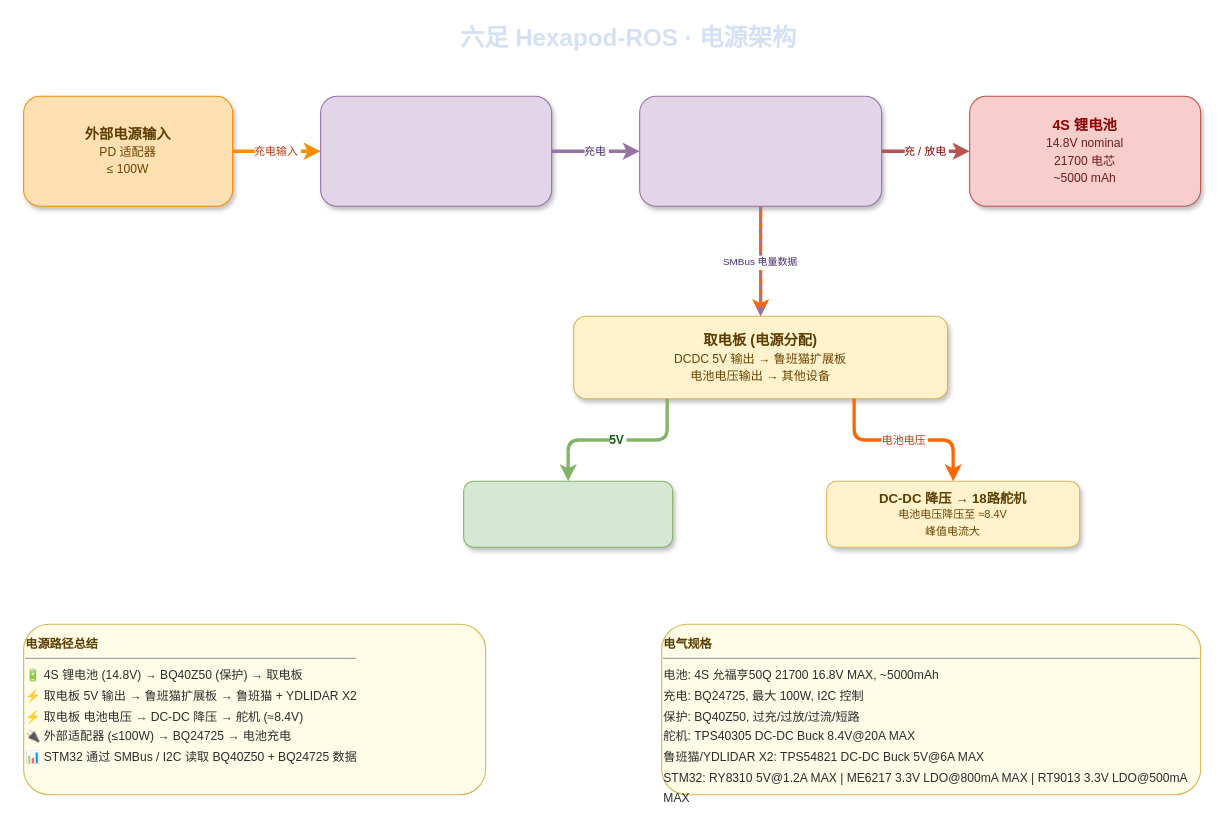
This 1227x827 diagram has some shape labels left out. Each missing label, with the centre of its shape:
"BQ24725 充电管理 IC 最大 100W 输入 I2C 可编程" goes at [436,152].
"BQ40Z50 电池保护 + 电量计 过充/过放/过流/短路 SMBus 电量统计" goes at [761,152].
"鲁班猫 Zero/YDLIDAR X2 5V 供电" goes at [568,515].
